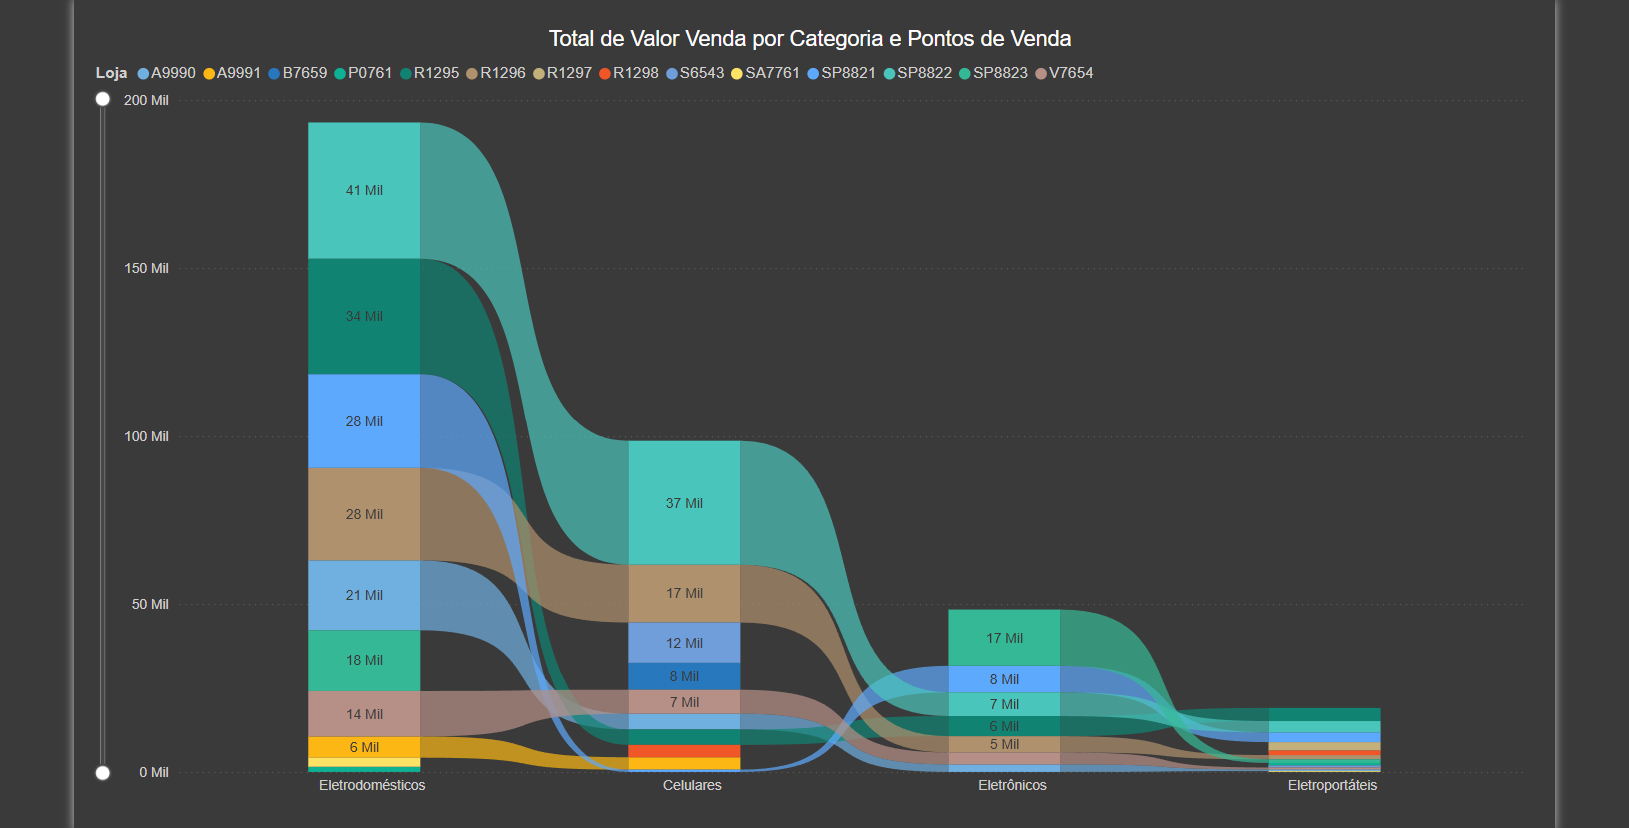

The page's visual inventory and layout, read from the dashboard file:
{"tool":"powerbi","page":{"name":"Faixas de Vendas Por Categoria e Pontos de Venda","canvas":[1280,720],"ordinal":3},"visuals":[{"type":"ribbonChart","title":"Total de Valor Venda por Categoria e Pontos de Venda","fields":{"Category":["Vendas.Categoria"],"Y":["Sum(Vendas.ValorVenda)"],"Series":["Vendas.Loja"]},"box":[13.6,23.3,1245,673.1],"z":0}]}

Visuals, with their boxes on the page's 1280x720 design canvas (x1, y1, x2, y2). These are canvas units, not pixel positions in the 1629x828 screenshot, which may show the page scaled, cropped or inside an application window:
"Total de Valor Venda por Categoria e Pontos de Venda" ribbonChart: x1=14, y1=23, x2=1259, y2=696
